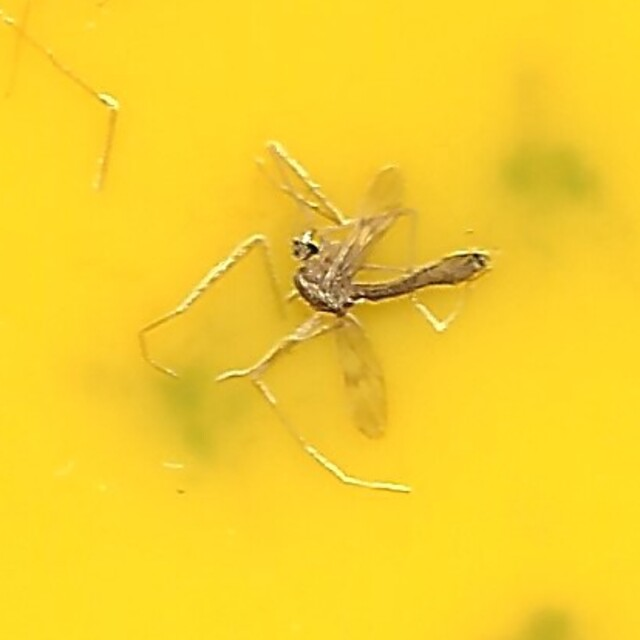Nematocera: (155, 152, 485, 488)
